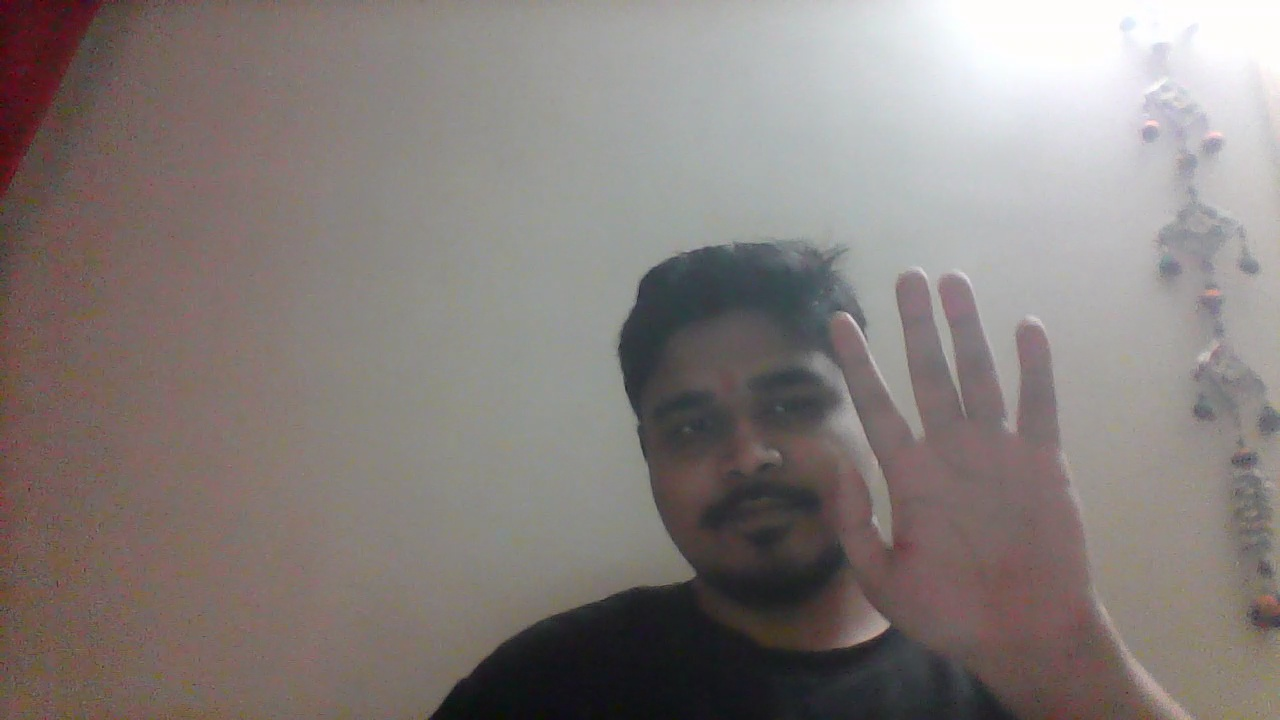Hello: (818, 266, 1131, 666)
